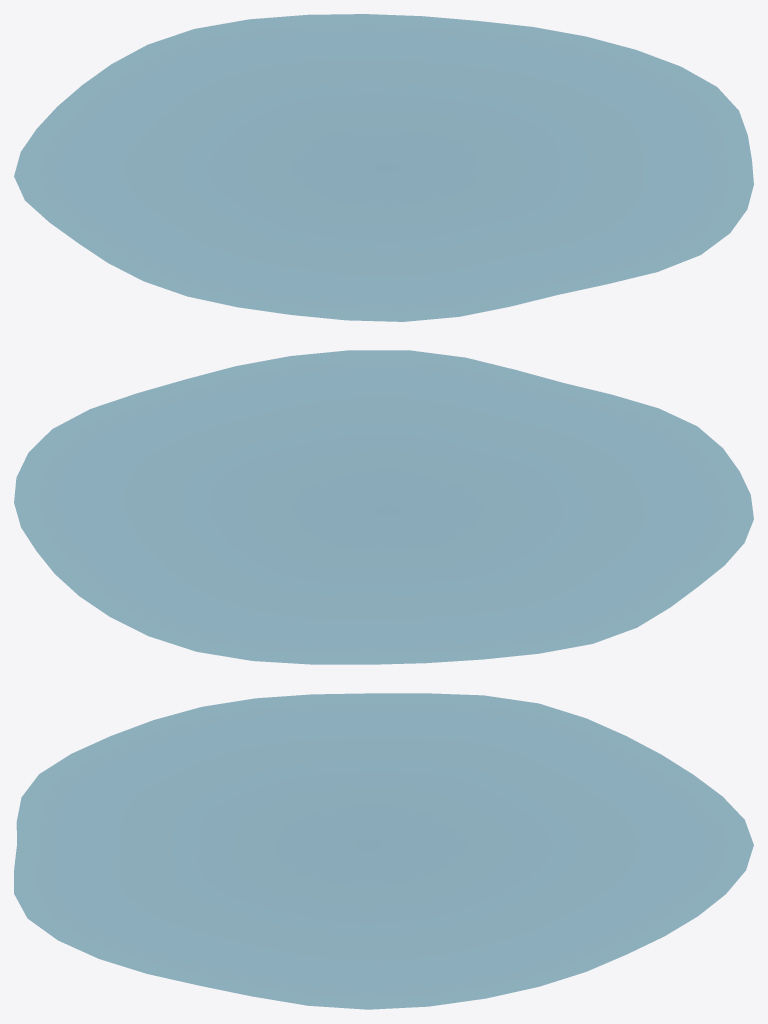
The model's file is lake.gltf.
3 renders of one model, top to bottom at view 1: azimuth 30°, elevation 25°; view 2: azimuth 150°, elevation 25°; view 3: azimuth 270°, elevation 25°, orthographic.
Parts seen in each view (by area): view 1: lake; view 2: lake; view 3: lake.
Boxes of the visible parts, box(x1,y1,x2,y2) form: lake: box(14, 14, 753, 321); lake: box(14, 350, 753, 664); lake: box(14, 693, 753, 1009).
Bounding box in the file's own units: 18.26 × 0 × 18.05.
